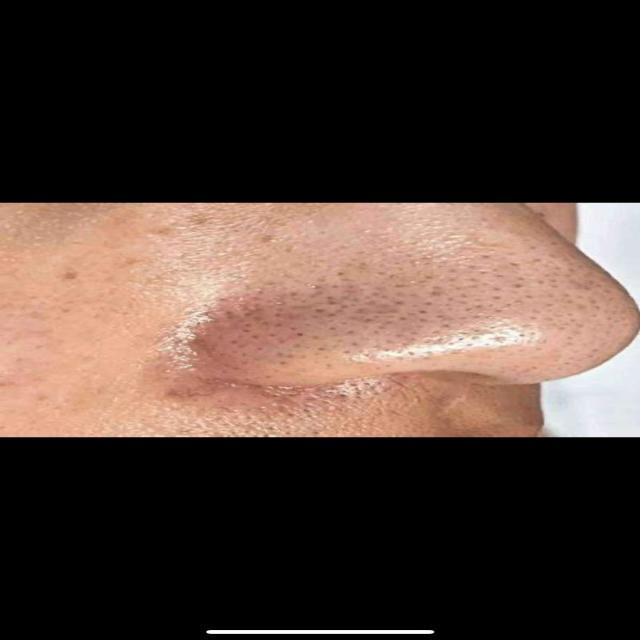blackhead: (183, 234, 632, 375)
